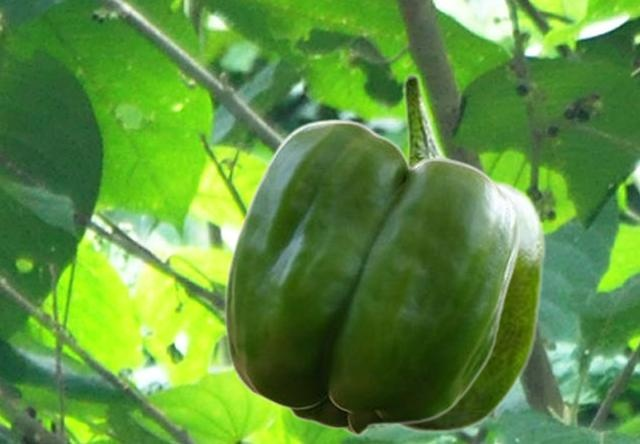bell_pepper: (223, 118, 519, 435), (393, 72, 546, 434)
